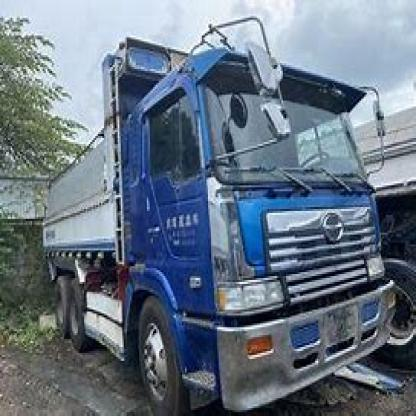dump_truck: (9, 34, 390, 410)
